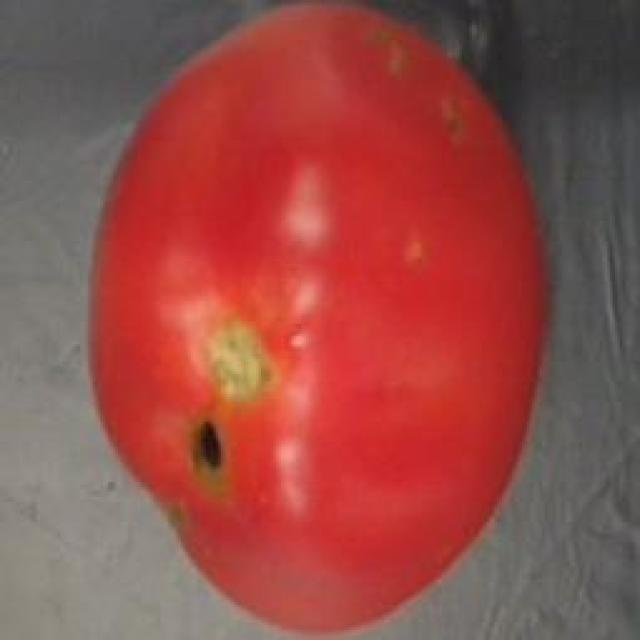overripe tomato: (77, 2, 567, 640)
